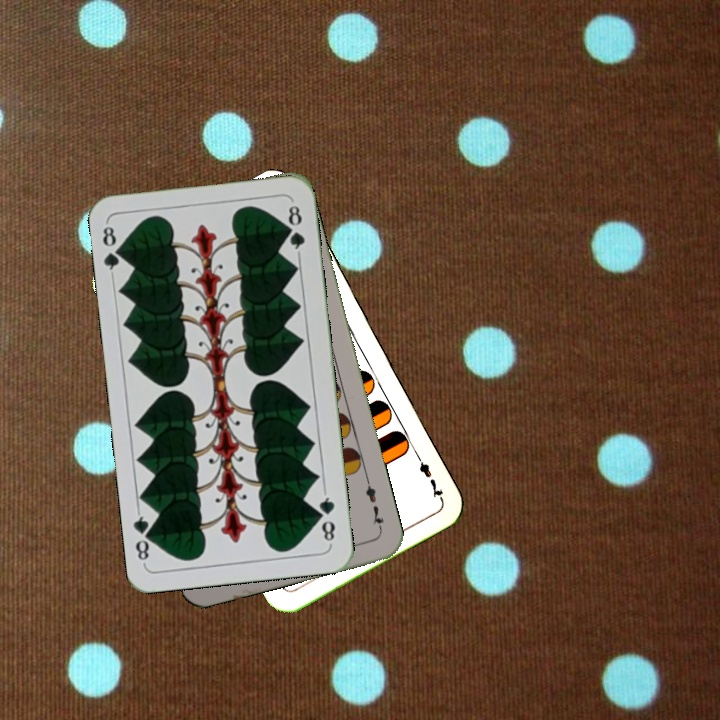E7: (410, 447, 446, 502), (361, 476, 387, 534)
G8: (98, 219, 127, 279), (314, 488, 338, 547)
